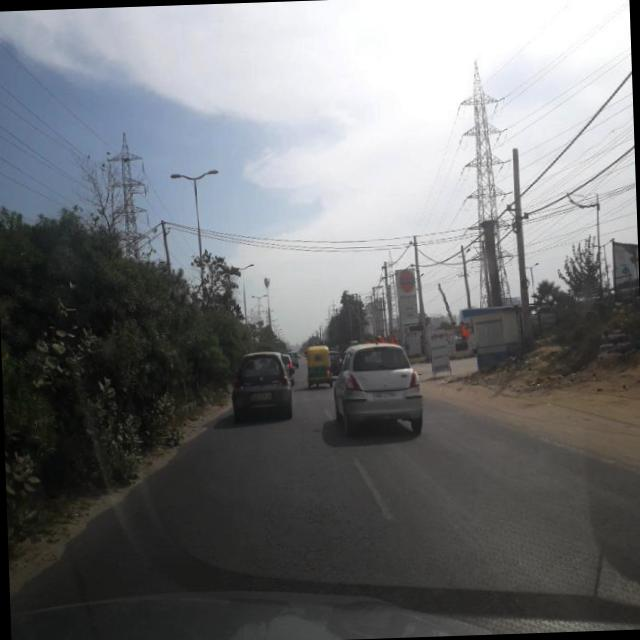crack: (37, 428, 628, 596)
